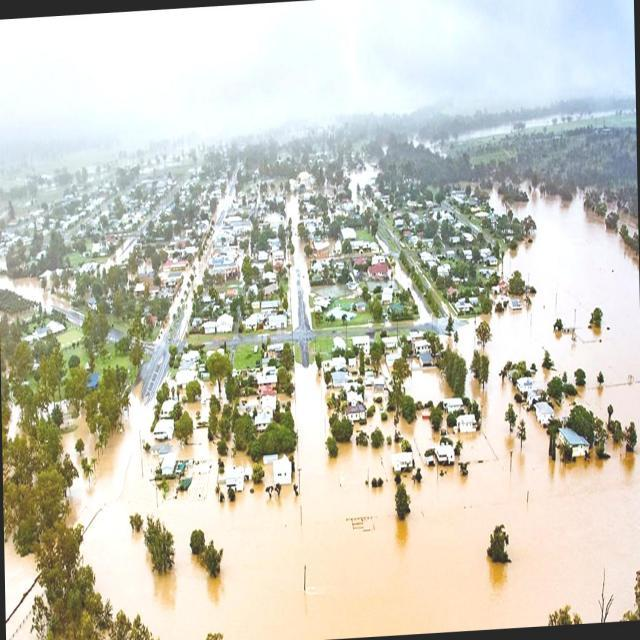flood: (76, 340, 640, 640)
